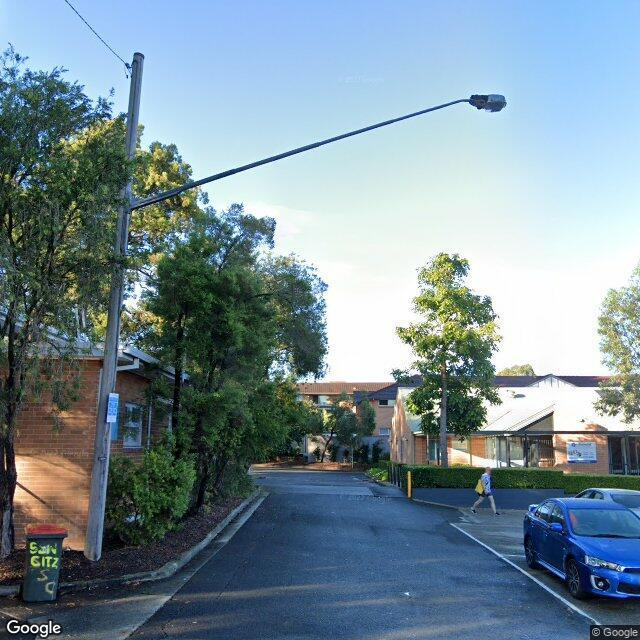streetlight: (126, 94, 508, 210)
timber-pole: (84, 53, 146, 560)
